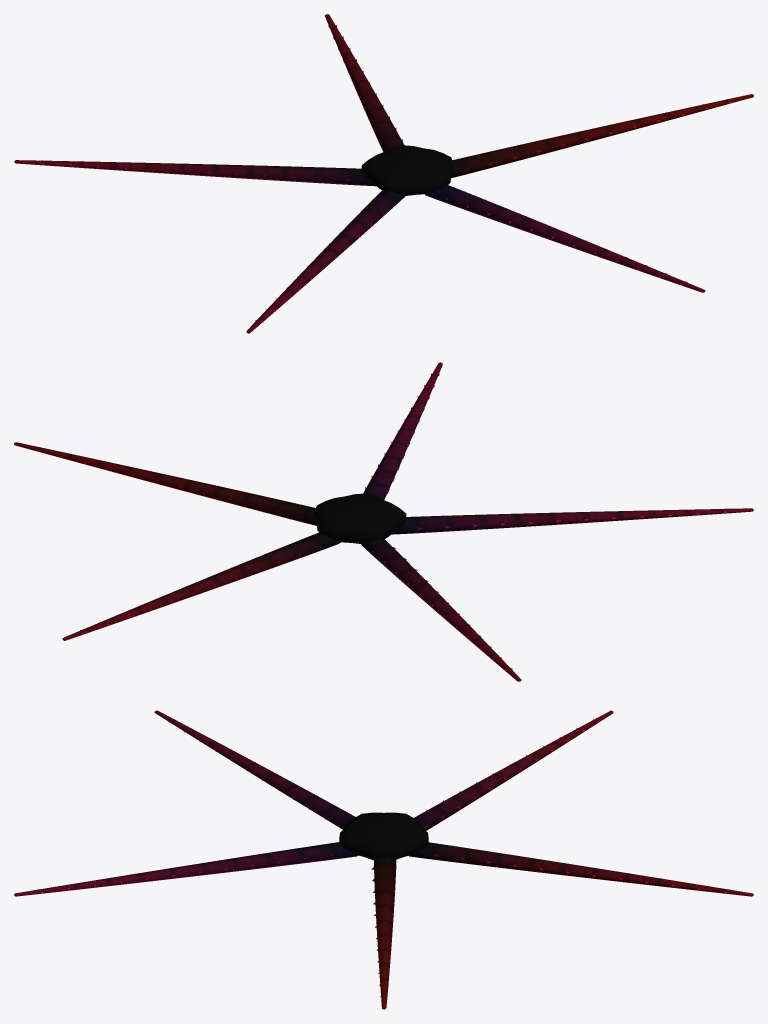
File: serpent_star.glb
The picture shows the model from 3 angles, top to bottom: view 1: azimuth 30°, elevation 25°; view 2: azimuth 150°, elevation 25°; view 3: azimuth 270°, elevation 25°; orthographic projection. The views are drawn at different scales.
Parts seen in each view (by area): view 1: Arms, Body; view 2: Arms, Body; view 3: Arms, Body.
Part boxes in pixels (box(x1,y1,x2,y2)): Arms: box(14, 14, 753, 333); Body: box(361, 145, 453, 195); Arms: box(14, 362, 753, 681); Body: box(314, 493, 406, 544); Arms: box(14, 710, 753, 1009); Body: box(339, 812, 428, 860).
Size of the model in its own units: 0.9083 by 0.0429 by 0.9547.
1 material, 1 textured.
